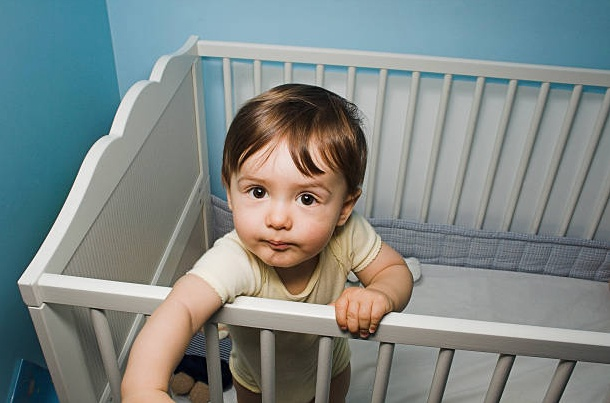baby: (122, 84, 412, 402)
crib: (19, 37, 609, 402)
